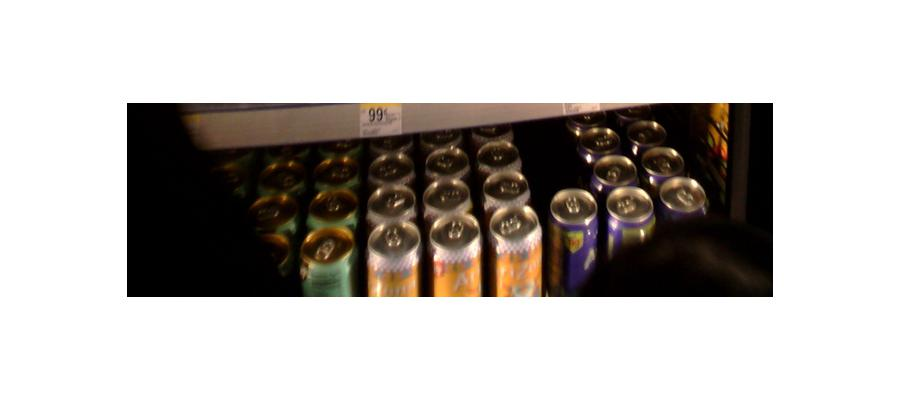bottle: (300, 185, 356, 292), (550, 182, 600, 290), (488, 198, 540, 295), (428, 206, 481, 294), (365, 212, 421, 295), (246, 185, 297, 276)
